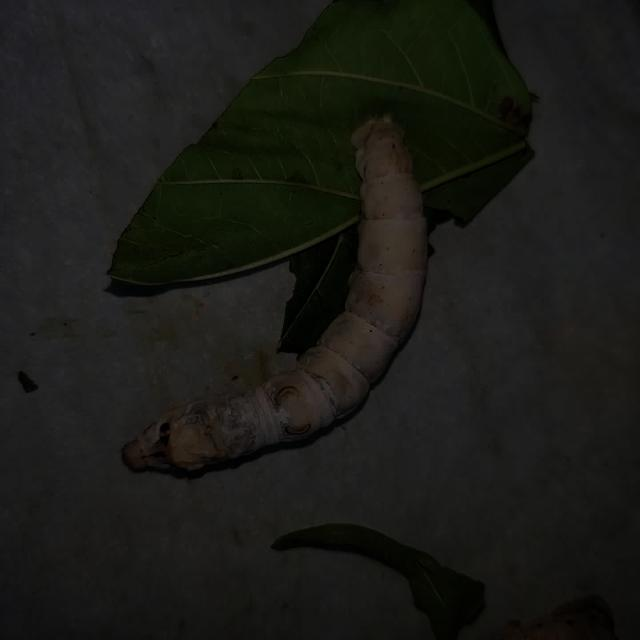Grasserie: (104, 85, 443, 515)
